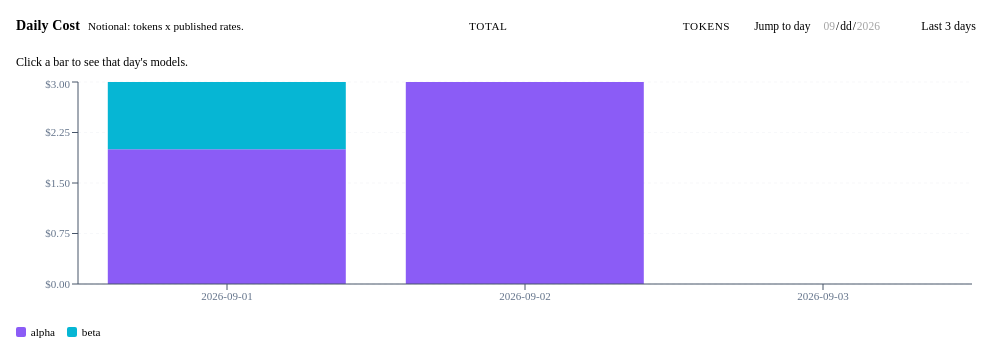
Test: DailyCostSection › switches the title, caption and ranking to tokens
The image size is (993, 355).
Click the button "Tokens". click: (707, 26)
box: [673,16,740,36]
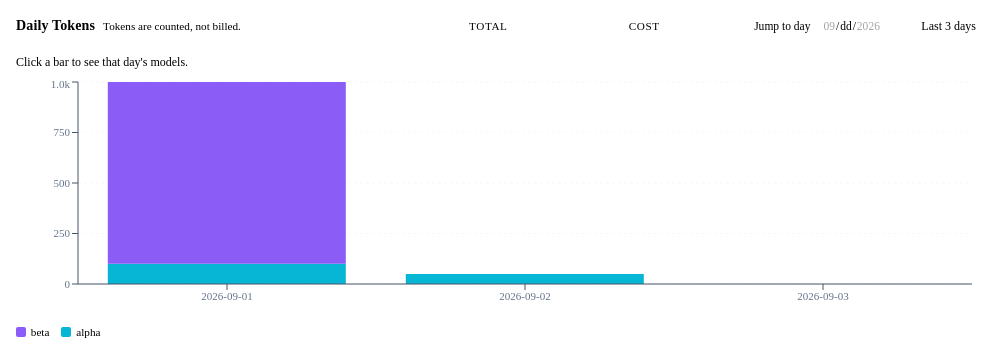
Expected: the list item "beta" is shown, [16,326,49,338]
Expected: the heading "Daily Tokens" is shown, [16,18,95,34]
Expected: the text "Tokens are counted, not billed." is shown, [103,20,241,32]
